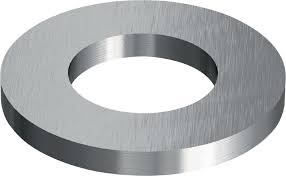No thread: (69, 22, 229, 121)
